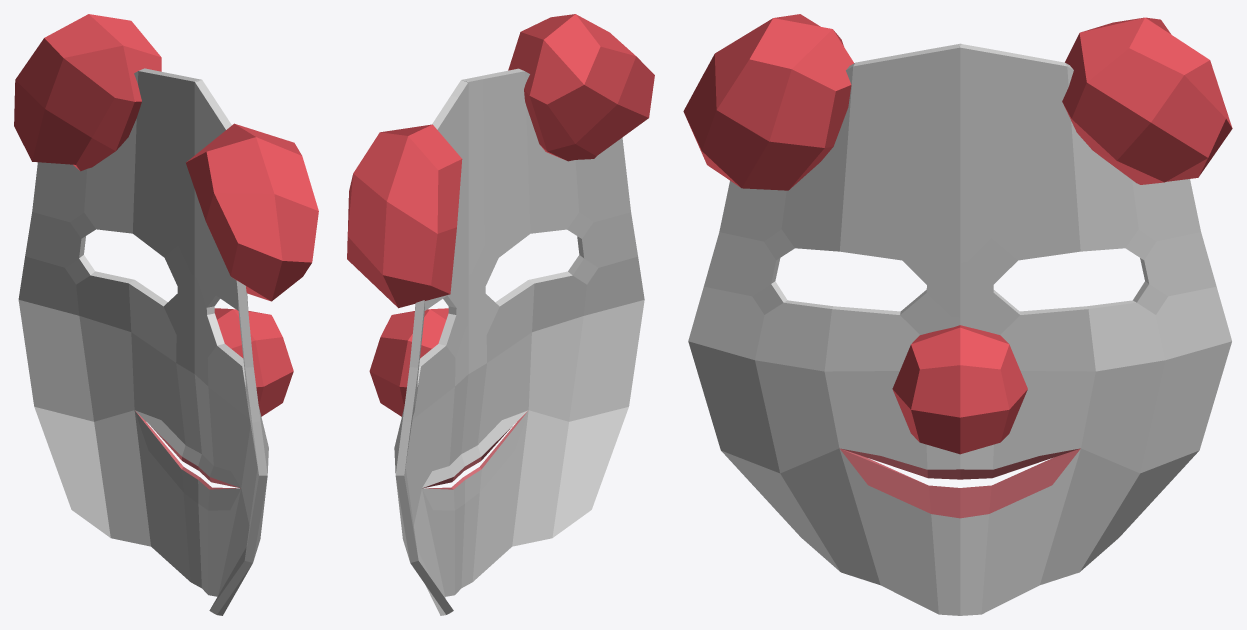
The model's file is Clown_Mask.glb.
3 renders of one model, left to right at view 1: azimuth 30°, elevation 25°; view 2: azimuth 150°, elevation 25°; view 3: azimuth 270°, elevation 25°, orthographic. The views are drawn at different scales.
Parts seen in each view (by area): view 1: Clown_Mask_Plane; view 2: Clown_Mask_Plane; view 3: Clown_Mask_Plane.
Part boxes in pixels (x1,y1,x2,y2): Clown_Mask_Plane: (14,14,318,615); Clown_Mask_Plane: (347,14,654,615); Clown_Mask_Plane: (683,14,1232,615).
Size of the model in its own units: 0.2822 by 0.8477 by 0.7294.
